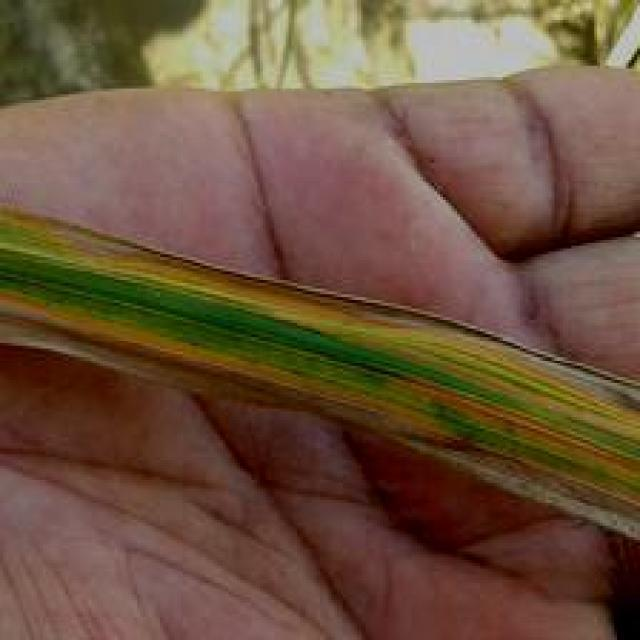Rice_Bacterial_Blight: (52, 191, 554, 486)
